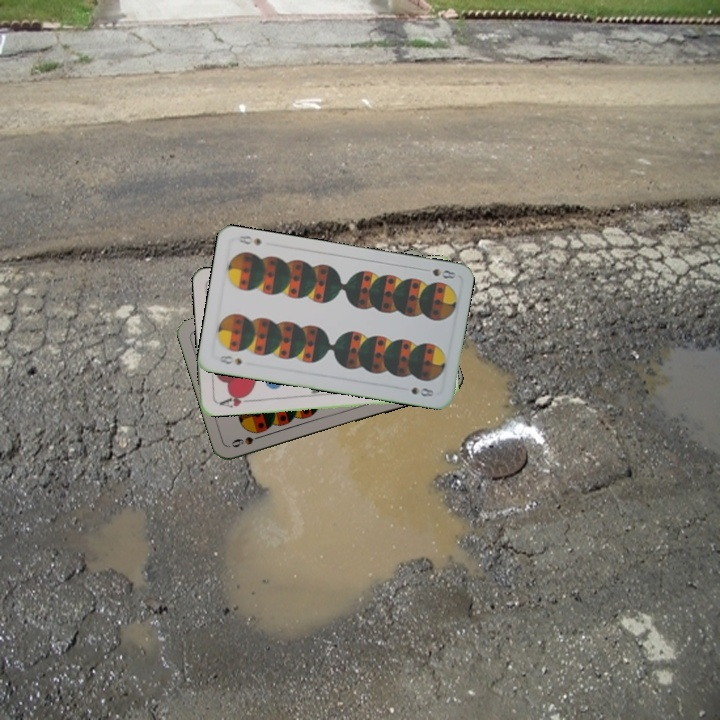HA: (214, 390, 255, 410)
S8: (418, 264, 458, 281), (214, 351, 245, 368)
S9: (227, 431, 267, 450)
